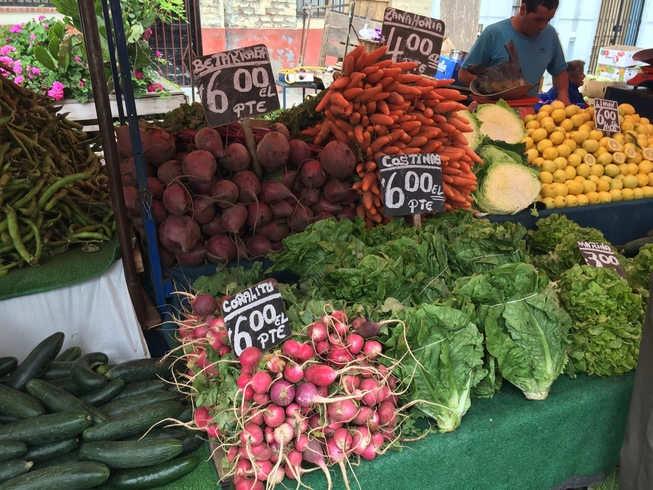precio: (186, 41, 285, 131), (212, 281, 300, 363), (372, 2, 450, 87), (374, 150, 454, 223), (573, 234, 628, 288), (590, 94, 629, 142)
